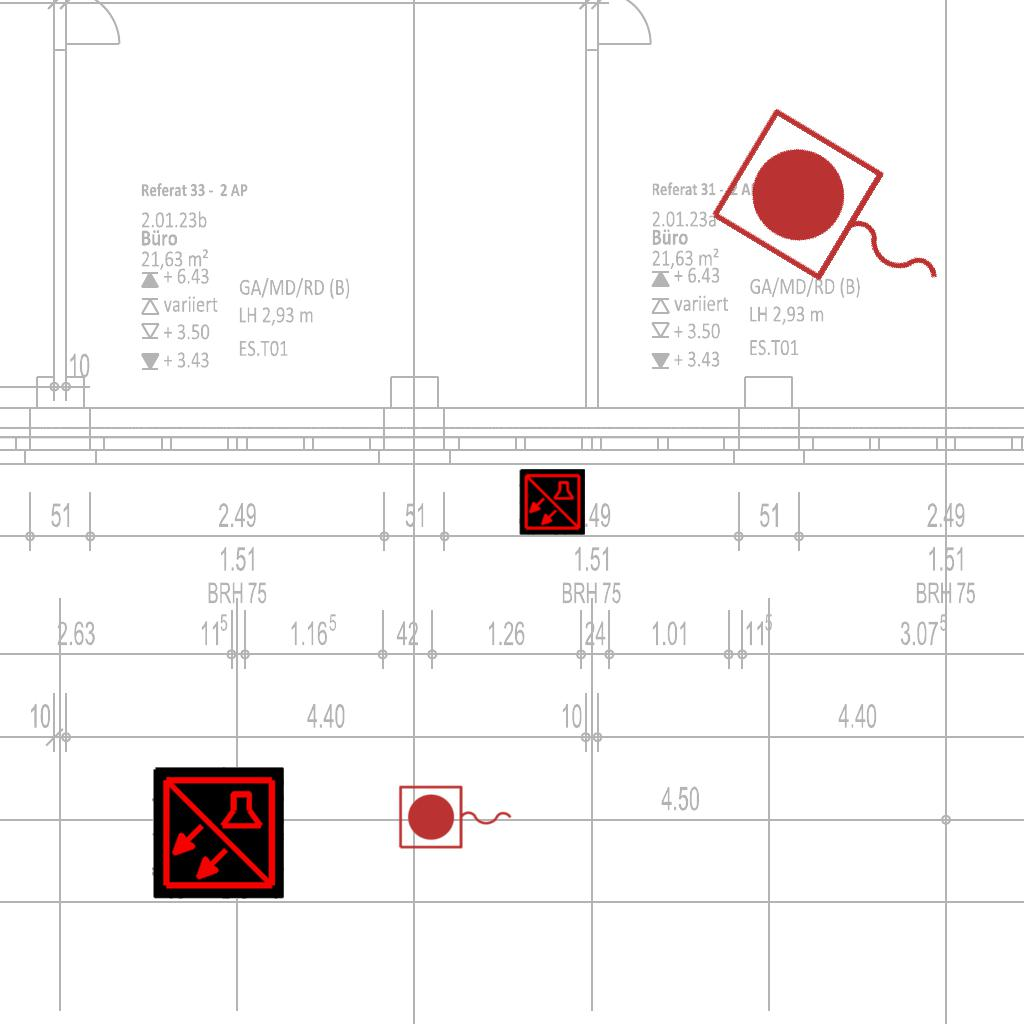OKW_Multisensormelder_(Kombination_optischer_Rauch-Kahlenmonoxid_Waerme-Melder): (152, 767, 284, 899), (519, 469, 585, 535)
Zugtaster: (698, 97, 982, 347), (395, 782, 517, 854)
